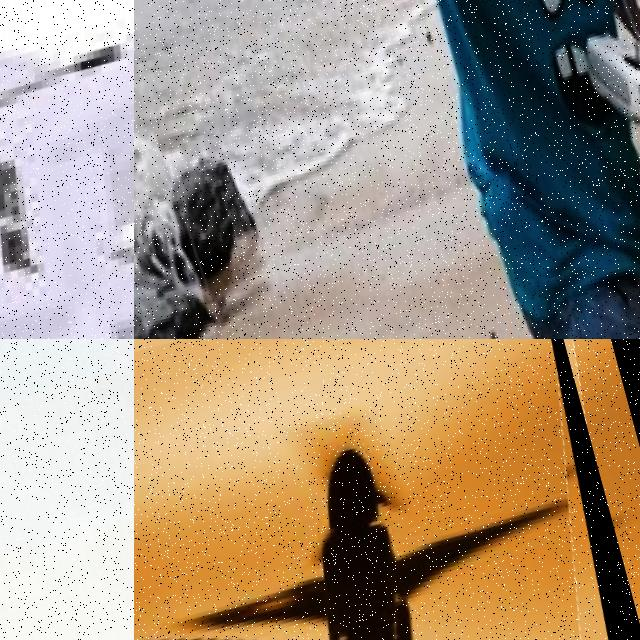drone: (134, 339, 640, 640), (0, 0, 134, 339)
